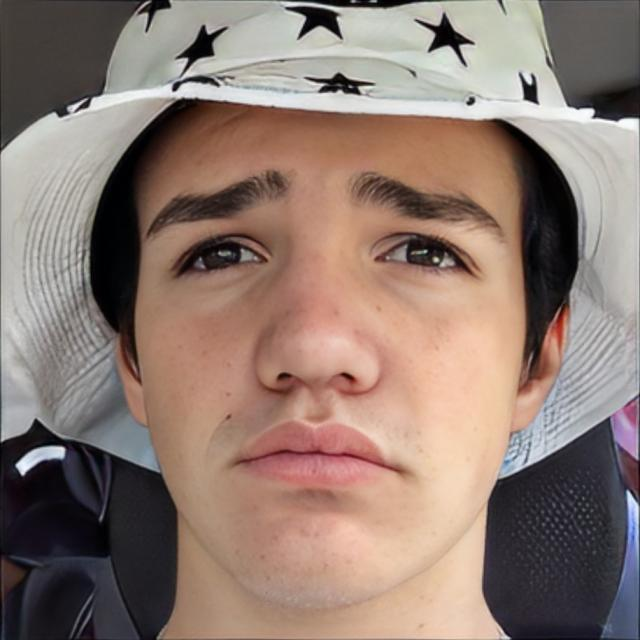sad: (131, 96, 527, 612)
